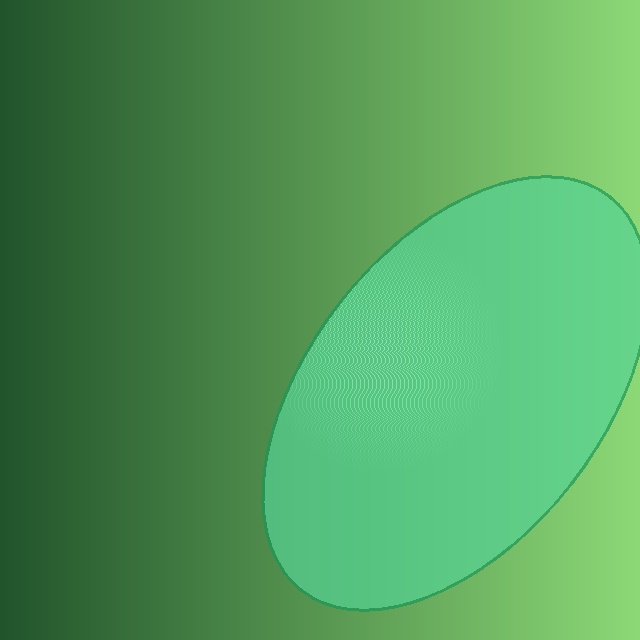lens: (264, 177, 640, 609)
